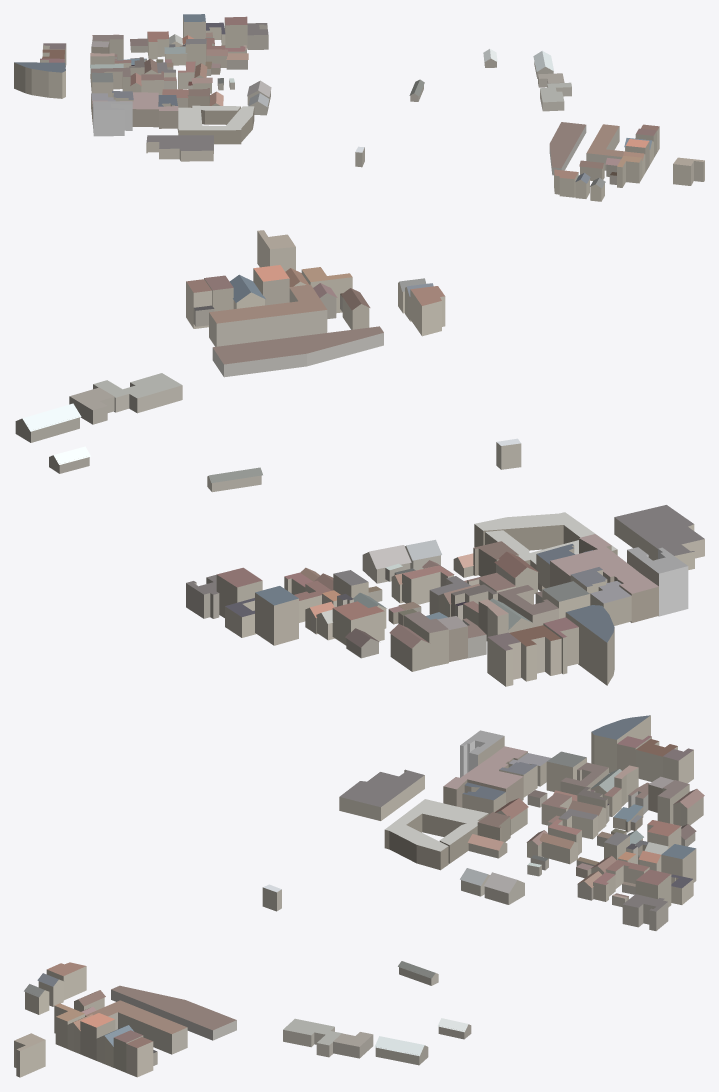
The picture shows the model from 3 angles, top to bottom: view 1: azimuth 30°, elevation 25°; view 2: azimuth 150°, elevation 25°; view 3: azimuth 270°, elevation 25°; orthographic projection. The views are drawn at different scales.
Parts seen in each view (by area): view 1: tuile; view 2: tuile; view 3: tuile.
Part boxes in pixels (x1=…): tuile: x1=14, y1=14, x2=704, y2=201; tuile: x1=15, y1=230, x2=704, y2=686; tuile: x1=14, y1=715, x2=704, y2=1077.
Bounding box in the file's own units: 259 × 29.53 × 260.
